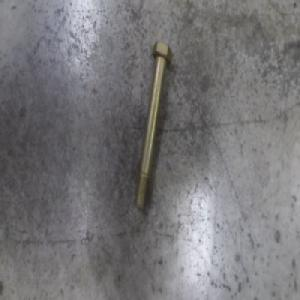Bolt: (133, 40, 171, 213)
